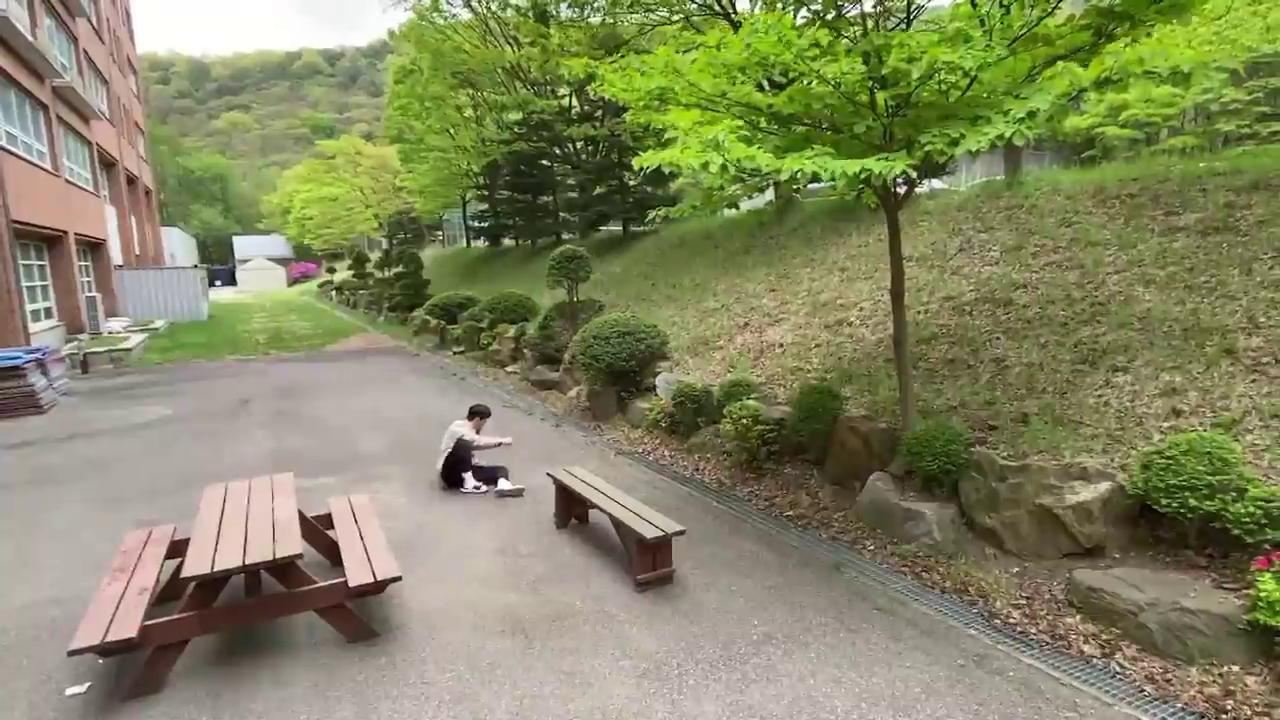fall_down: (435, 401, 527, 501)
